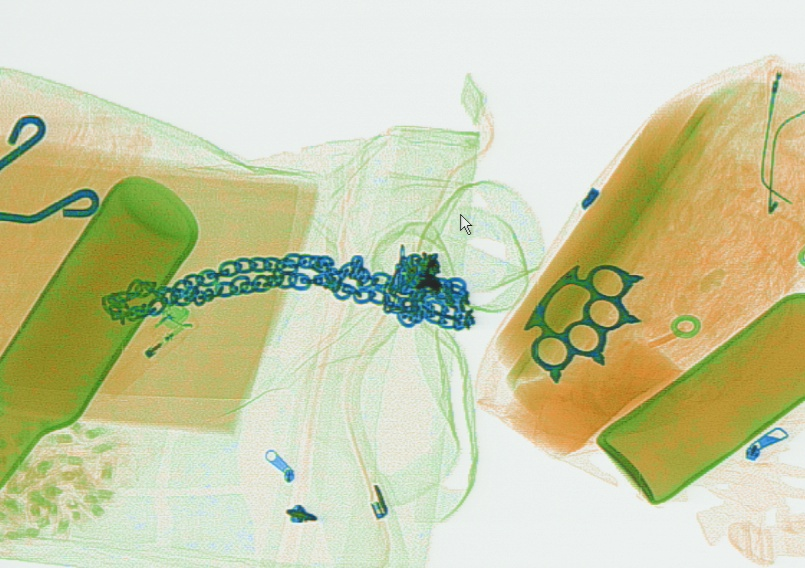firecrackers: (1, 408, 135, 548)
lighter: (85, 303, 195, 400)
slingshot: (0, 115, 96, 224)
